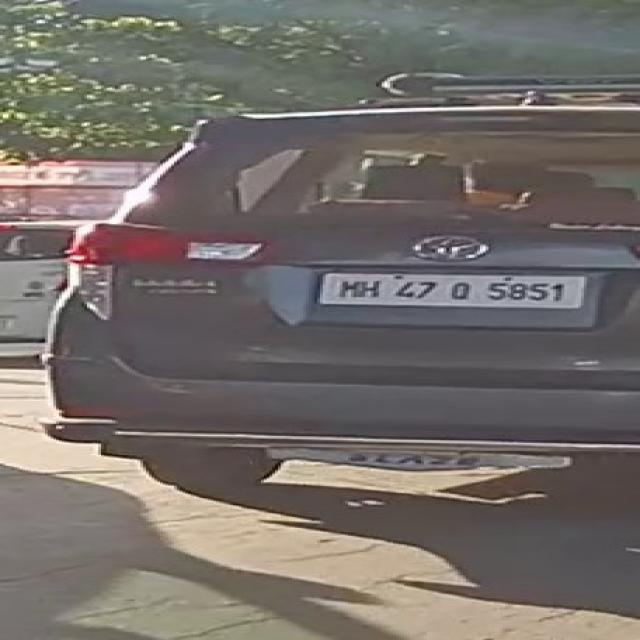Plate: (315, 273, 585, 308)
